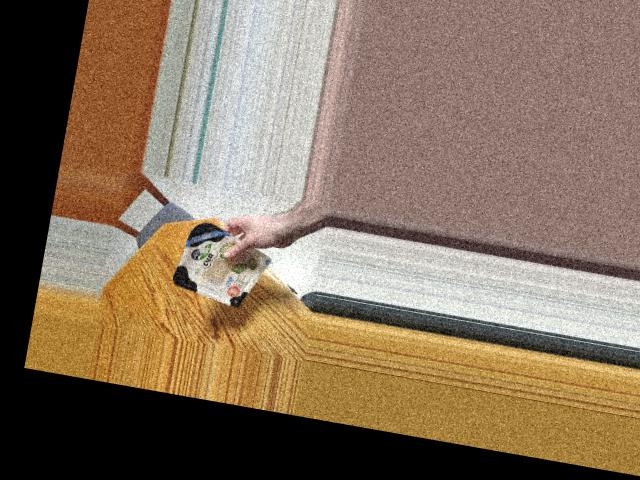cheese: (172, 221, 260, 307)
